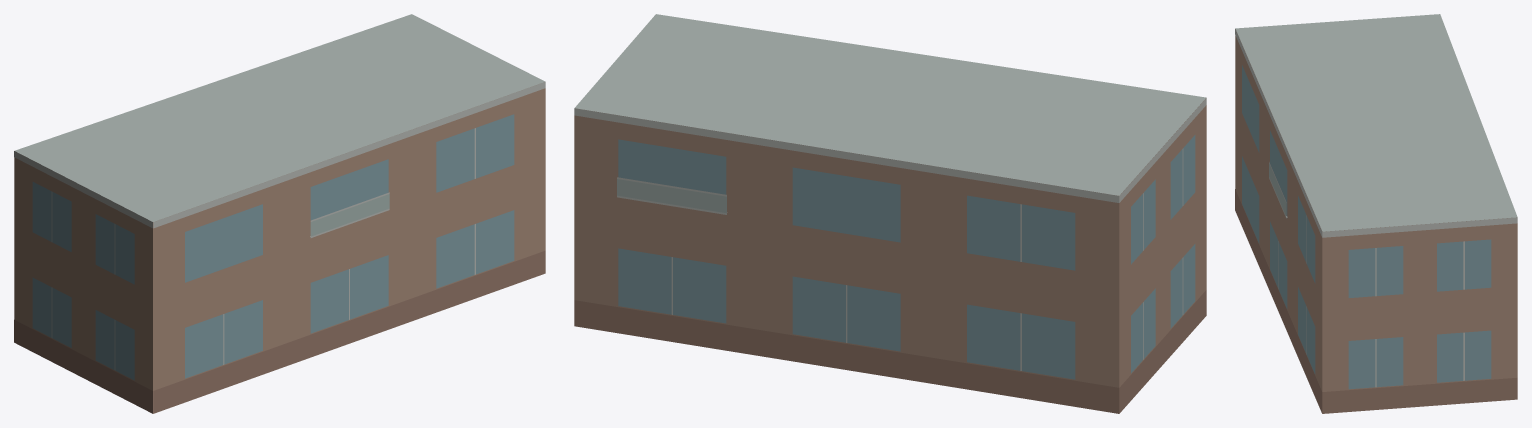
File: survey-upis-32623853.glb
3 renders of one model, left to right at view 1: azimuth 30°, elevation 25°; view 2: azimuth 150°, elevation 25°; view 3: azimuth 270°, elevation 25°, orthographic. The views are drawn at different scales.
Parts seen in each view (by area): view 1: survey-upis-32623853.tmp; view 2: survey-upis-32623853.tmp; view 3: survey-upis-32623853.tmp.
Part boxes in pixels (x1,y1,x2,y2): survey-upis-32623853.tmp: (14, 14, 545, 413); survey-upis-32623853.tmp: (574, 14, 1206, 413); survey-upis-32623853.tmp: (1235, 14, 1517, 413).
Size of the model in its own units: 18.72 by 7.3 by 10.27.
